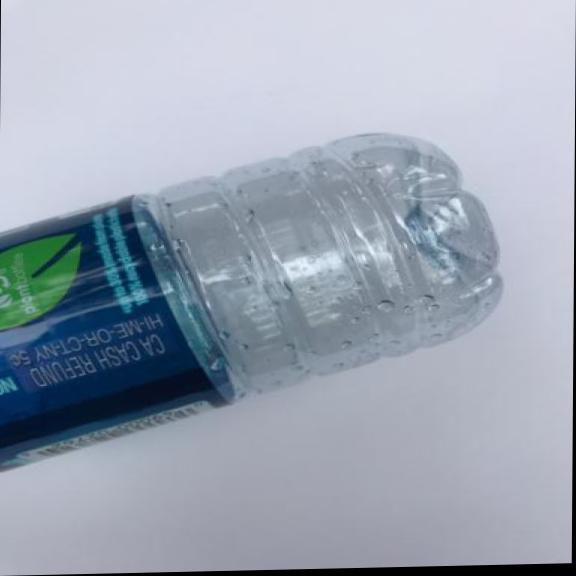Plastik: (0, 127, 511, 472)
